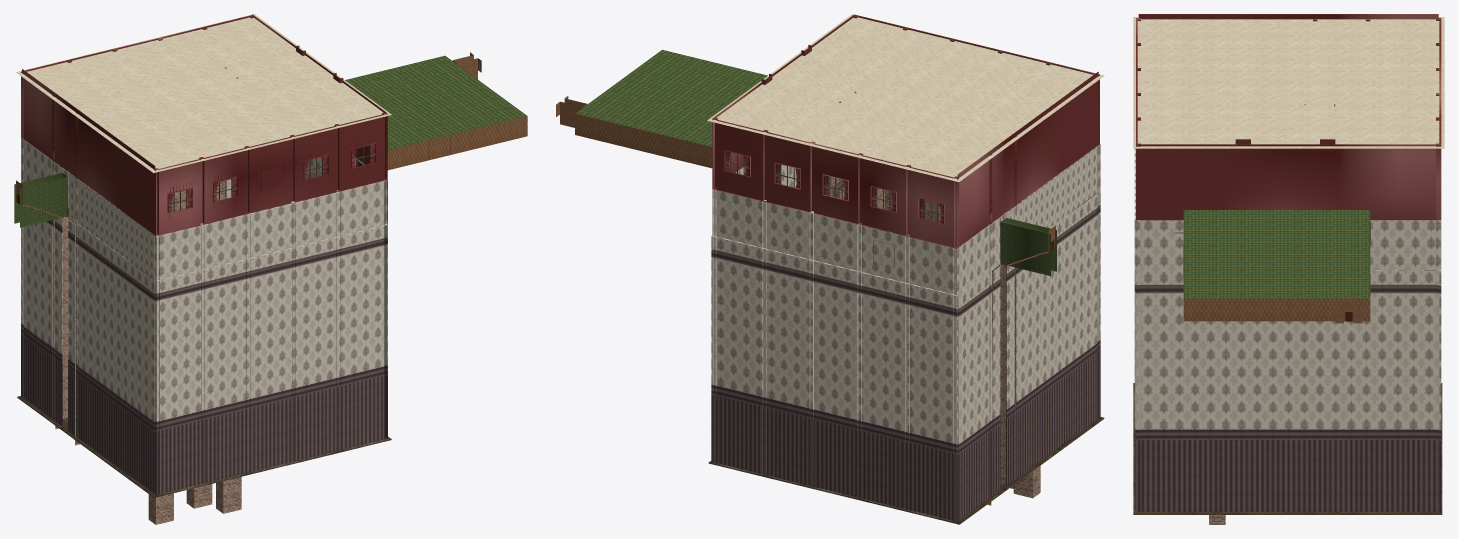
File: new granny map .fbx
3 renders of one model, left to right at view 1: azimuth 30°, elevation 25°; view 2: azimuth 150°, elevation 25°; view 3: azimuth 270°, elevation 25°, orthographic. The views are drawn at different scales.
Parts seen in each view (by area): view 1: Part1276, Plane.049, Part857.002, Union101.001, Part712.001, nen.003, Part801, Part857.001, Part854.001, nen.002, Part825.001, Wood194 (+8 smaller); view 2: Part855.001, Plane.049, Part857.002, Union101, Part850.001, Part857.001, Part801, nen.003, Part854.001, nen.002, Part825.001, Part856.001 (+10 smaller); view 3: Part629.001, Plane.049, Part68.001, nen.003, nen.002, Part616, Part852.001, Part801, Part670.001, nen.004, Part845.001, Union101 (+4 smaller).
Part boxes in pixels (bbox=[...]): Part1276: bbox=[155, 225, 385, 495]; Plane.049: bbox=[16, 14, 391, 172]; Part857.002: bbox=[68, 217, 154, 493]; Union101.001: bbox=[154, 112, 387, 236]; Part712.001: bbox=[155, 180, 385, 281]; nen.003: bbox=[345, 55, 526, 149]; Part801: bbox=[22, 69, 155, 235]; Part857.001: bbox=[22, 218, 62, 426]; Part854.001: bbox=[68, 172, 154, 279]; nen.002: bbox=[387, 116, 527, 170]; Part825.001: bbox=[14, 173, 67, 227]; Wood194: bbox=[53, 217, 80, 445]; Part855.001: bbox=[711, 236, 957, 521]; Plane.049: bbox=[707, 14, 1104, 181]; Part857.002: bbox=[1006, 192, 1098, 485]; Union101: bbox=[713, 117, 959, 248]; Part850.001: bbox=[713, 189, 957, 295]; Part857.001: bbox=[958, 264, 1000, 524]; Part801: bbox=[957, 71, 1098, 247]; nen.003: bbox=[575, 49, 767, 146]; Part854.001: bbox=[1006, 146, 1098, 227]; nen.002: bbox=[575, 113, 712, 168]; Part825.001: bbox=[1000, 218, 1056, 275]; Part856.001: bbox=[956, 217, 1000, 295]; Part629.001: bbox=[1140, 270, 1435, 511]; Plane.049: bbox=[1133, 17, 1444, 148]; Part68.001: bbox=[1138, 144, 1441, 220]; nen.003: bbox=[1183, 210, 1370, 298]; nen.002: bbox=[1183, 298, 1370, 321]; Part616: bbox=[1370, 220, 1435, 269]; Part852.001: bbox=[1140, 220, 1183, 270]; Part801: bbox=[1138, 14, 1438, 19]; Part670.001: bbox=[1135, 270, 1140, 512]; nen.004: bbox=[1133, 383, 1442, 514]; Part845.001: bbox=[1436, 270, 1439, 512]; Union101: bbox=[1436, 18, 1441, 219].
Bounding box in the file's own units: 145 × 118 × 74.82.
